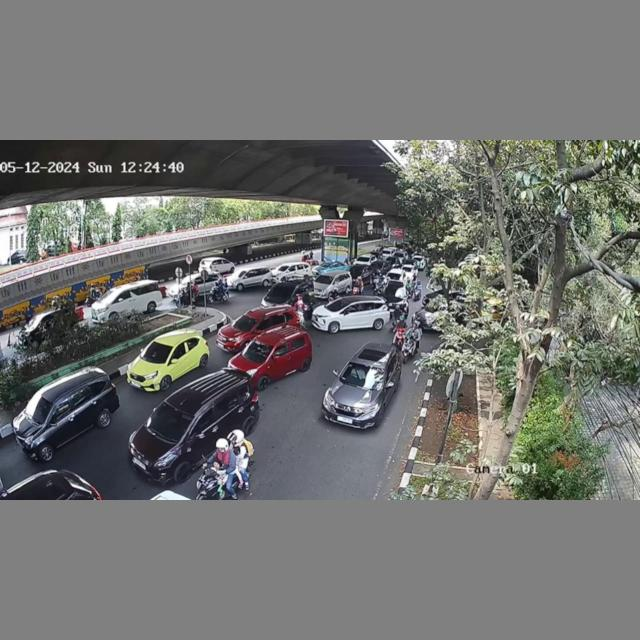windshield: (145, 403, 193, 441), (340, 360, 386, 391), (242, 337, 272, 362), (140, 342, 172, 365)
